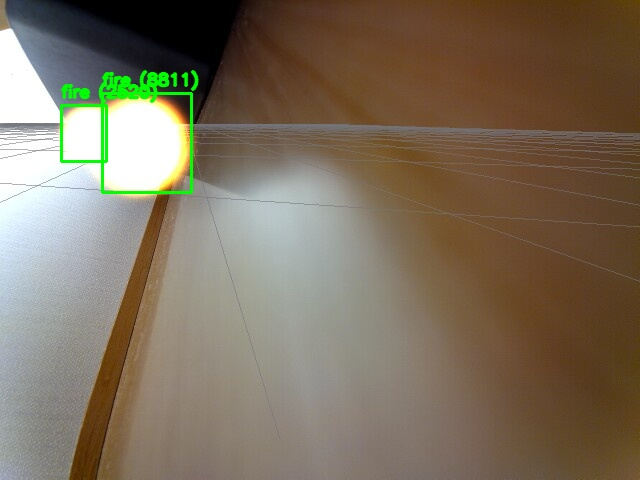fire: (102, 93, 191, 192), (61, 105, 106, 161)
